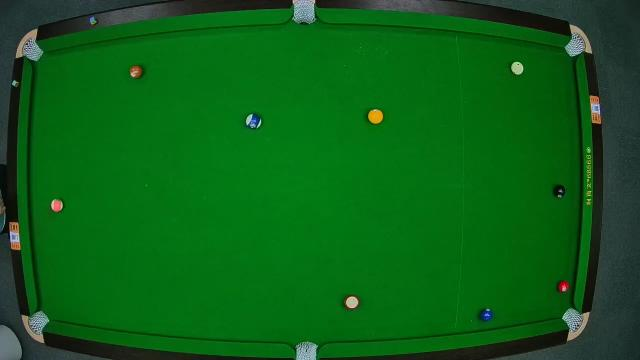bag1: (19, 36, 45, 64)
bag2: (292, 0, 316, 26)
bag3: (563, 30, 589, 57)
bag4: (25, 309, 51, 339)
bag5: (294, 340, 318, 360)
bag6: (560, 306, 586, 334)
ball0: (512, 62, 524, 76)
ball1: (368, 109, 384, 125)
ball10: (245, 112, 263, 130)
ball11: (344, 295, 360, 311)
ball12: (50, 199, 64, 213)
ball2: (478, 306, 494, 322)
ball3: (558, 280, 570, 294)
ball7: (130, 66, 144, 78)
ball8: (552, 183, 566, 199)
